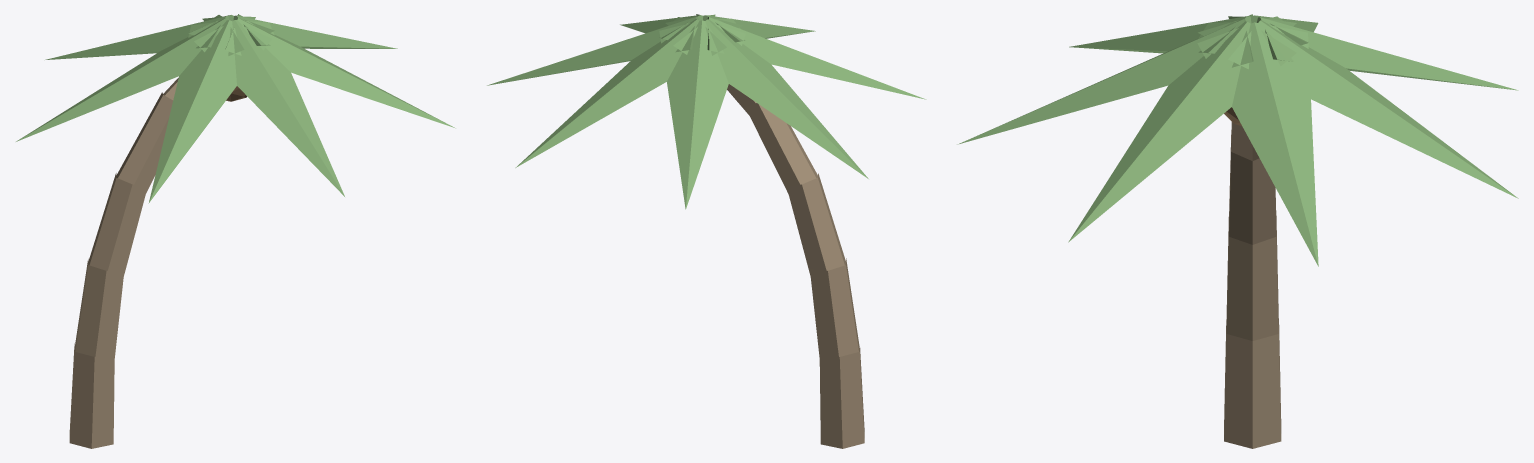
The model's file is nature_tree_palm_01.glb.
3 renders of one model, left to right at view 1: azimuth 30°, elevation 25°; view 2: azimuth 150°, elevation 25°; view 3: azimuth 270°, elevation 25°, orthographic. The views are drawn at different scales.
Parts seen in each view (by area): view 1: geometry_0; view 2: geometry_0; view 3: geometry_0.
Boxes of the visible parts, bbox=[...] form: geometry_0: bbox=[16, 14, 455, 448]; geometry_0: bbox=[487, 14, 926, 448]; geometry_0: bbox=[957, 14, 1518, 448].
Bounding box in the file's own units: 2.45 × 2.36 × 2.38.
